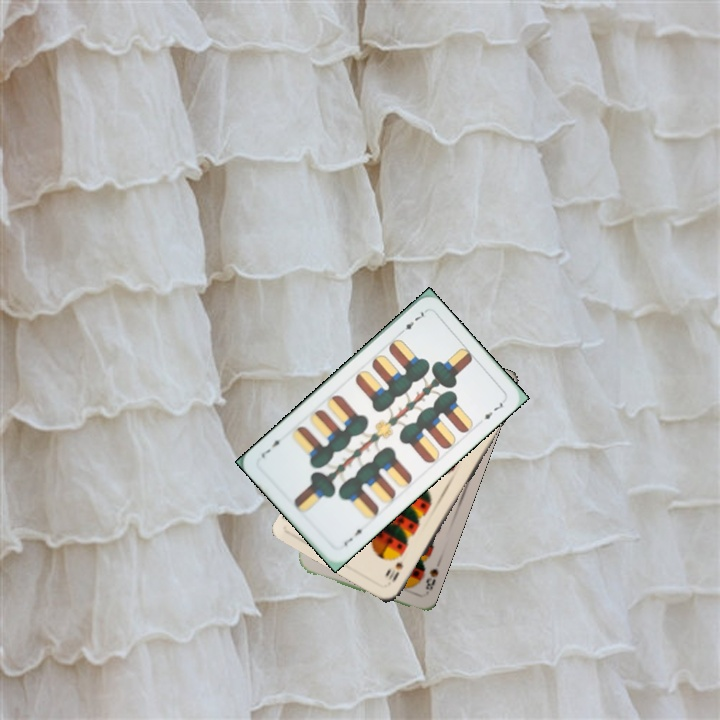E7: (395, 307, 429, 337), (340, 523, 369, 548)
S10: (384, 558, 406, 585)
S8: (421, 565, 441, 593)
